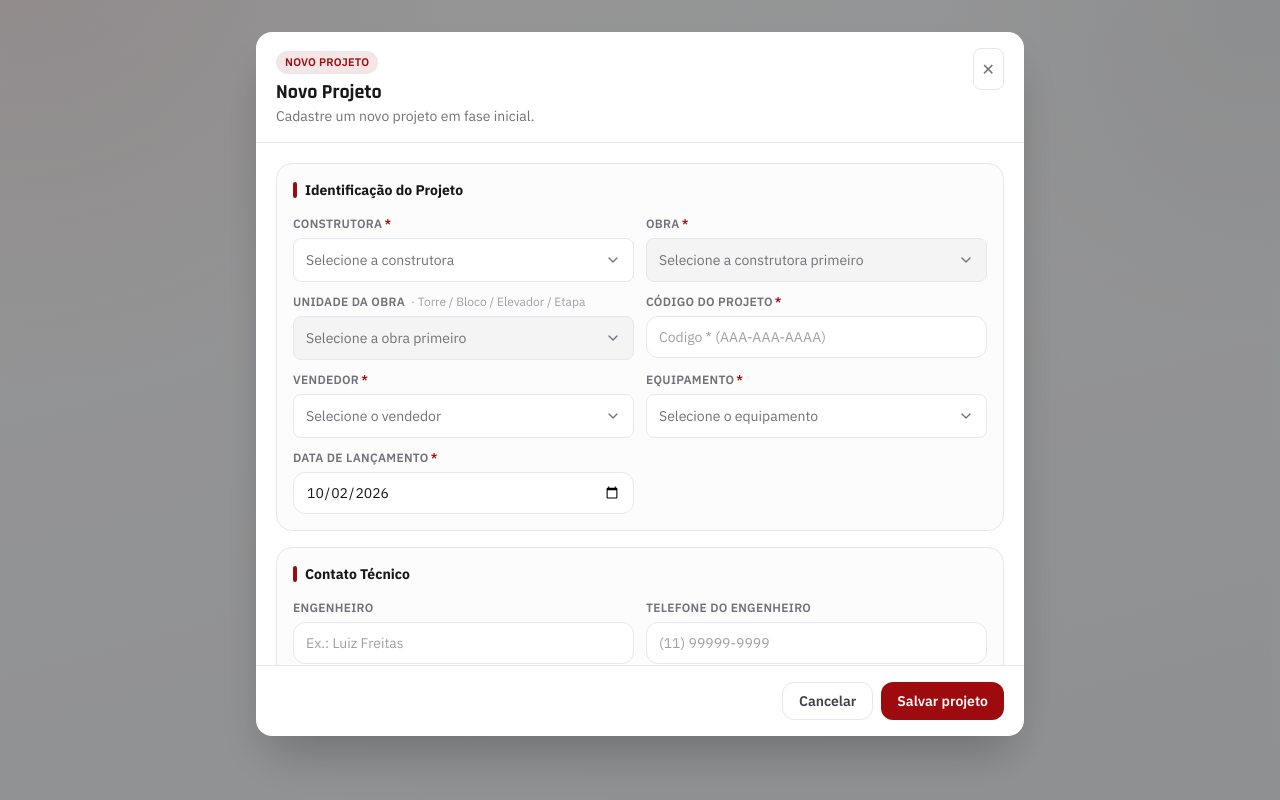
project form modal create flow › nao abre modal de confirmacao quando campos obrigatorios faltam
Click the button "Salvar projeto": (943, 701) [881,682,1004,720]
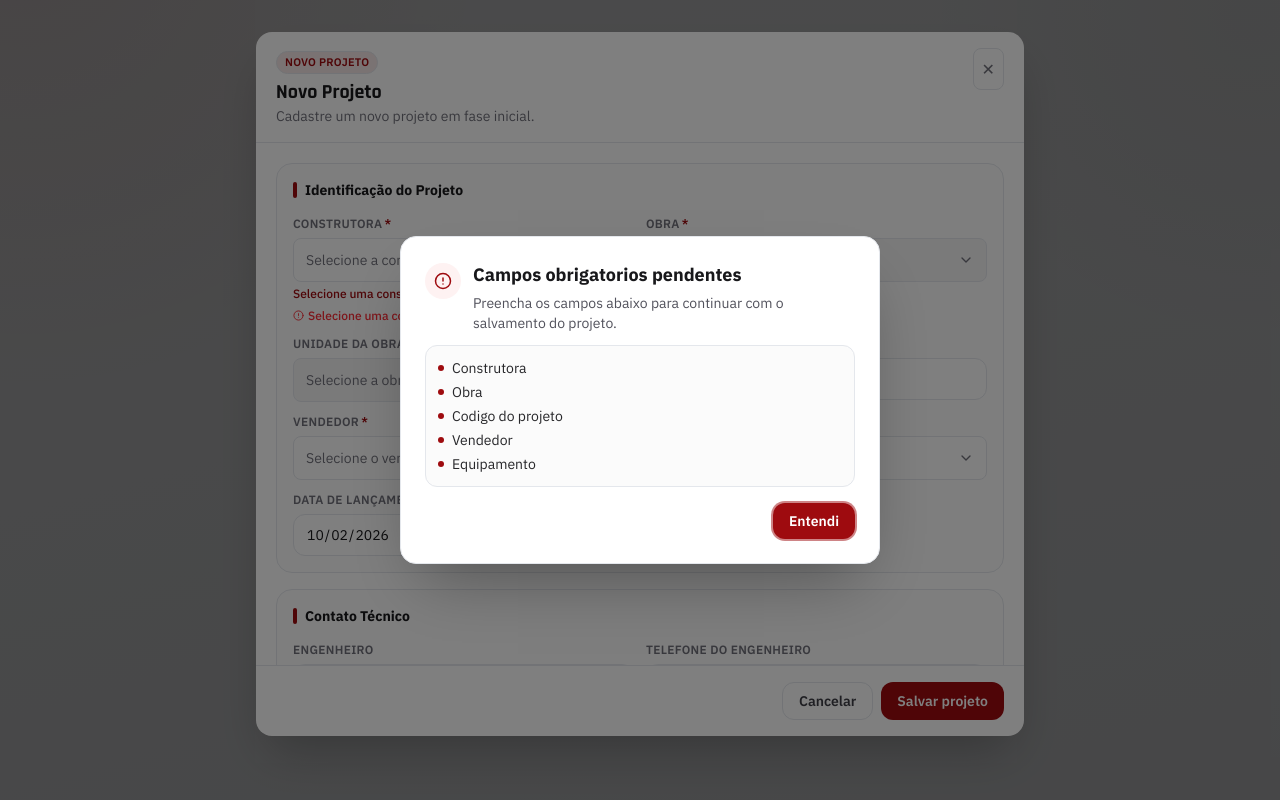
Expected: the text "Construtora" is shown, [293,216,382,230]
Expected: the heading "Campos obrigatorios pendentes" is shown, [473,263,742,286]
Expected: the text "Codigo do projeto" is shown, [452,406,563,426]
